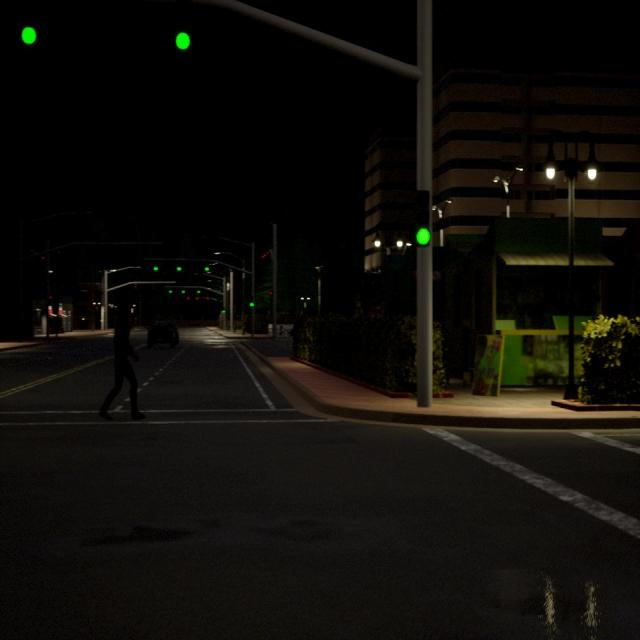Pedestrian: (99, 310, 145, 420)
Vehicle: (146, 319, 179, 352)
traffic_light: (414, 190, 430, 247), (175, 0, 191, 50), (20, 0, 38, 44), (250, 296, 254, 308), (269, 291, 273, 301), (221, 306, 225, 313), (176, 267, 182, 271), (204, 267, 210, 271), (154, 267, 158, 271), (168, 290, 172, 294), (186, 296, 190, 300), (197, 290, 201, 294), (48, 295, 52, 299), (182, 290, 185, 294), (195, 297, 199, 300), (41, 256, 44, 260), (266, 251, 269, 255), (262, 256, 264, 258), (206, 297, 208, 299), (264, 254, 266, 256)
